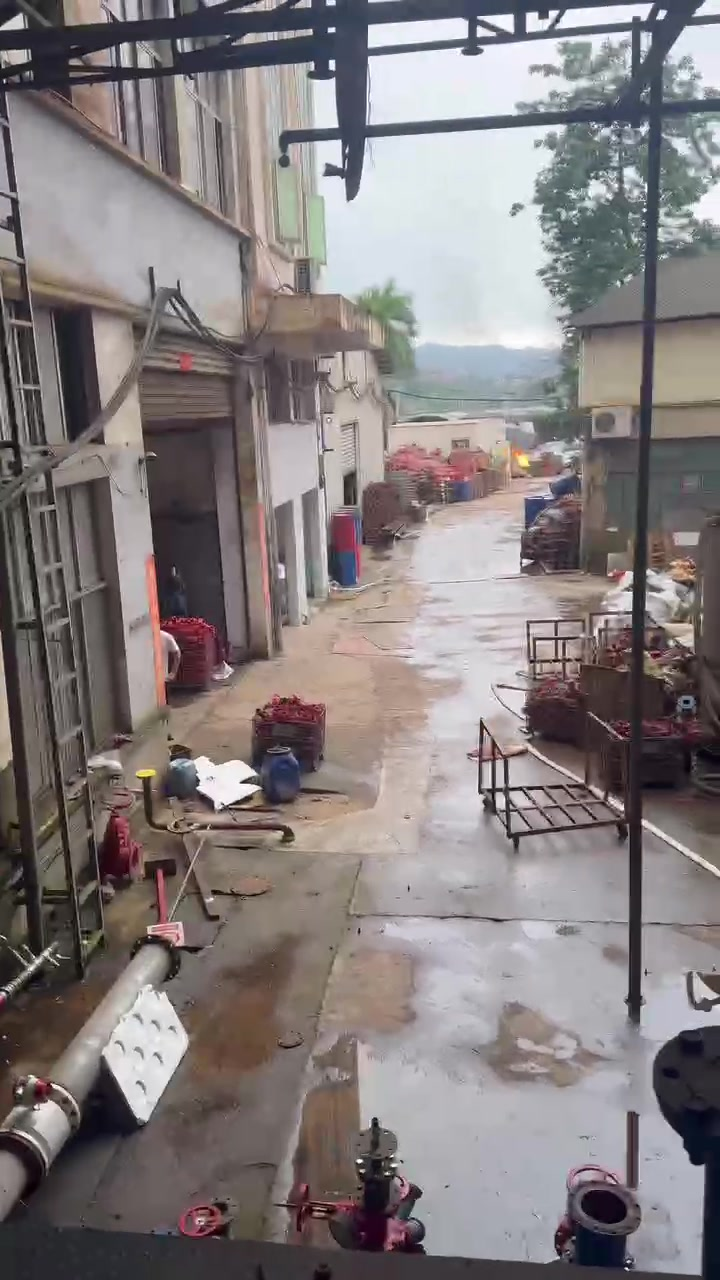fire: (513, 451, 530, 466)
